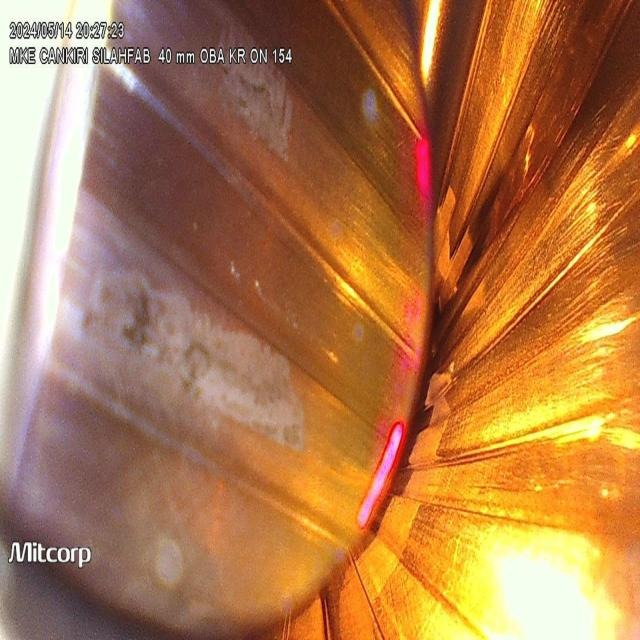hata_8.2: (70, 259, 322, 477), (214, 1, 308, 166), (422, 190, 482, 305), (420, 370, 465, 481)
